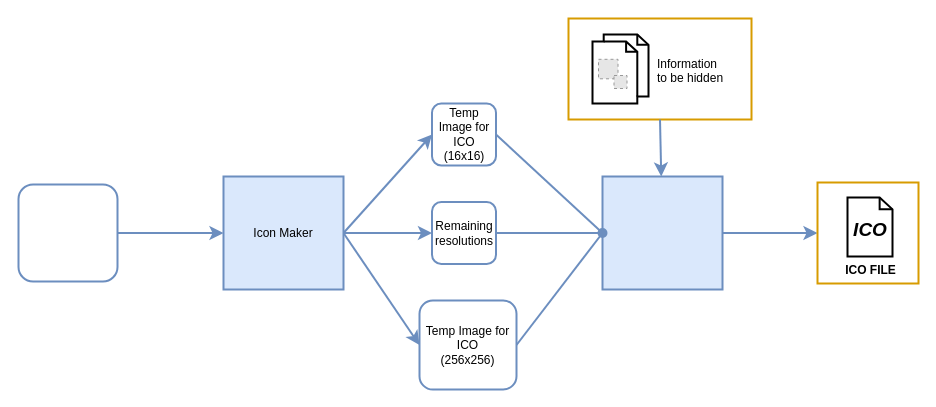
The diagram is 936 pixels wide and 407 high, and some of its shapes have lost their labels. Grey dashed boxes stand in for pictures. The centre of each missing label's shape, as x and y in pixels:
Image Base (for example an image of 512x512): point (67, 232)
Routine to hide the information using an M method and form the icon: point (662, 232)
